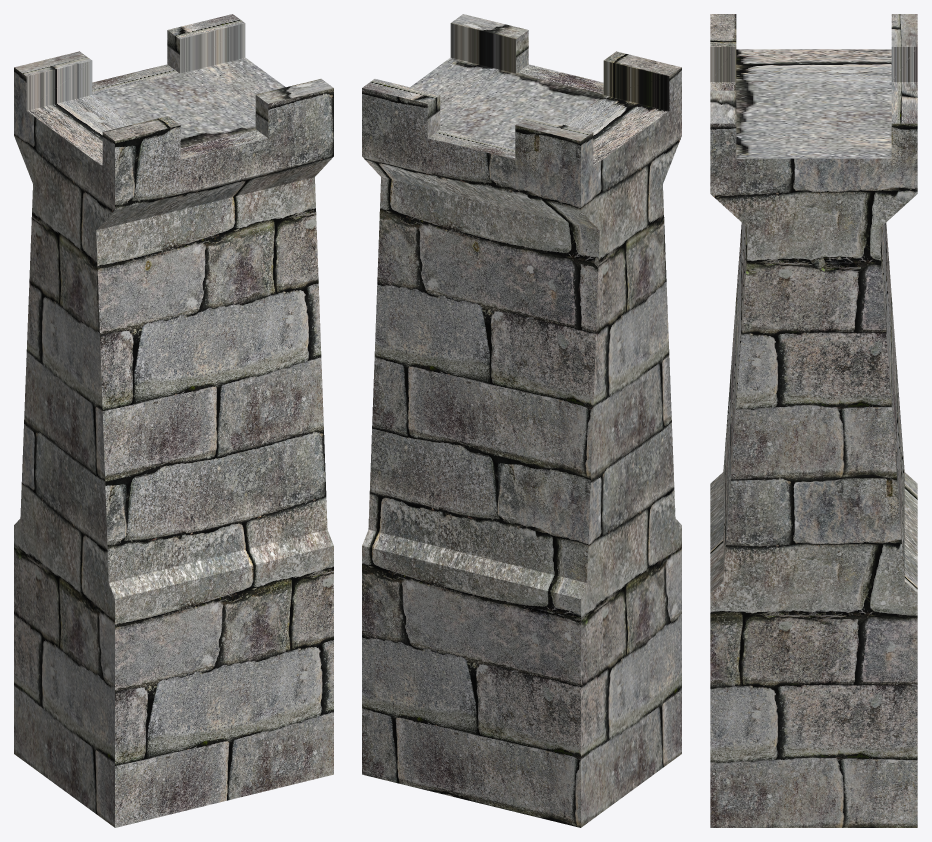
File: wall_model.glb
The picture shows the model from 3 angles, left to right: view 1: azimuth 30°, elevation 25°; view 2: azimuth 150°, elevation 25°; view 3: azimuth 270°, elevation 25°; orthographic projection. The views are drawn at different scales.
Parts seen in each view (by area): view 1: Cube.001; view 2: Cube.001; view 3: Cube.001.
Part boxes in pixels (x1,y1,x2,y2): Cube.001: (14, 14, 333, 827); Cube.001: (362, 14, 681, 827); Cube.001: (710, 14, 917, 827).
Size of the model in its own units: 1 by 3 by 0.8.
1 material, 1 textured.
